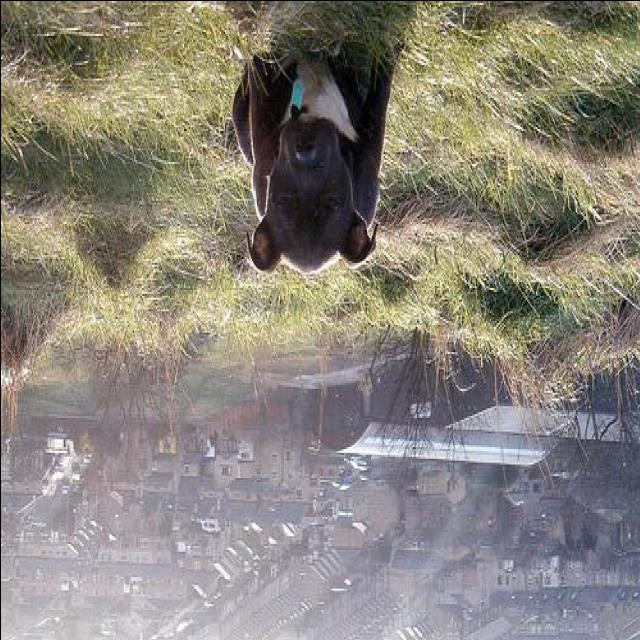staffordshire_bullterrier: (229, 49, 398, 274)
